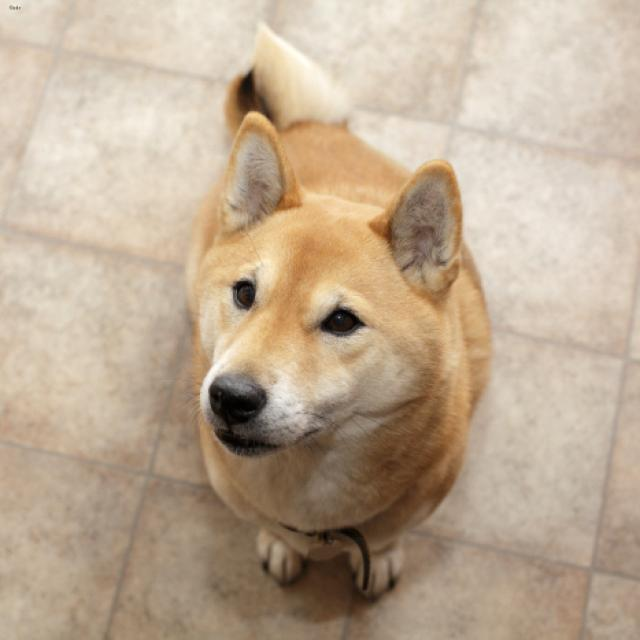dog-shiba_inu: (173, 10, 504, 614)
